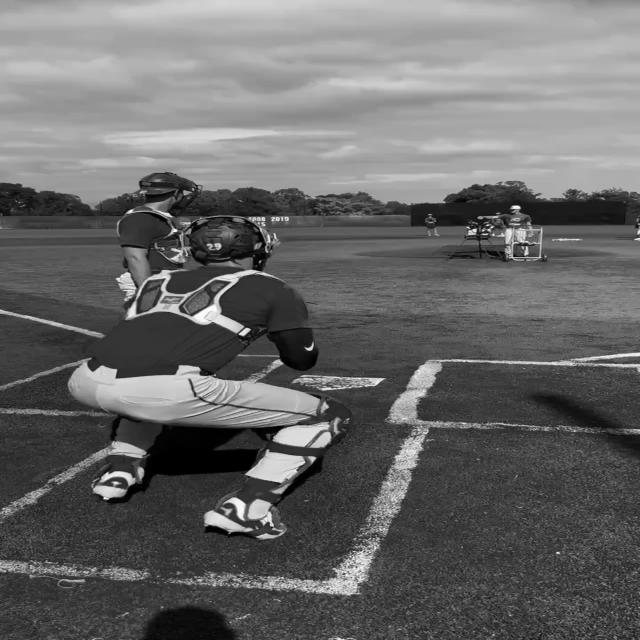base: (287, 372, 388, 392)
shoe: (202, 490, 286, 540), (89, 450, 149, 501)
